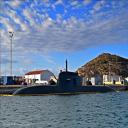submarine: (14, 59, 126, 96)
